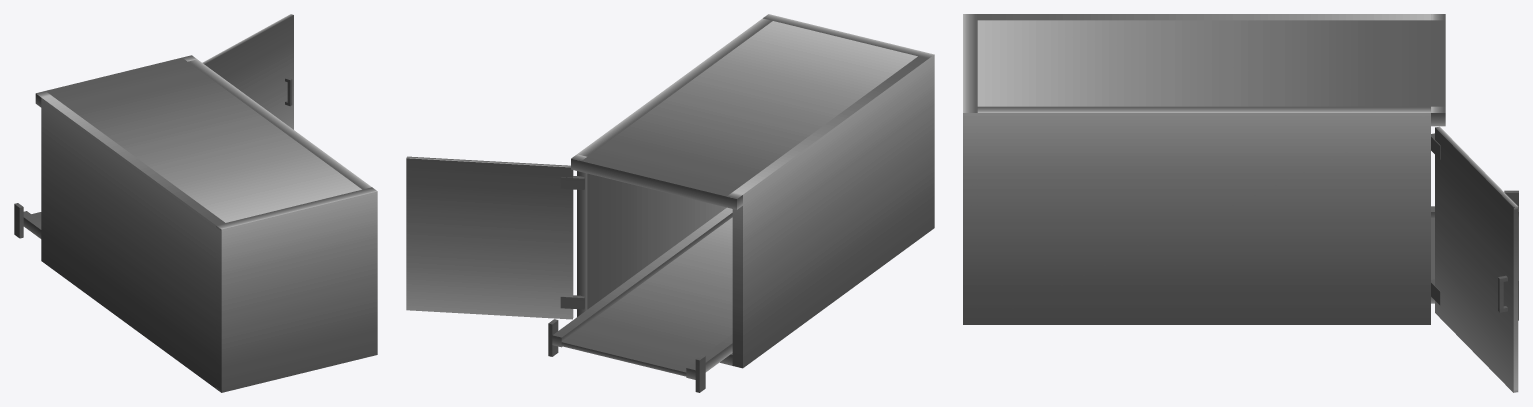
The model's file is corpse_freezer_open.obj.
3 renders of one model, left to right at view 1: azimuth 30°, elevation 25°; view 2: azimuth 150°, elevation 25°; view 3: azimuth 270°, elevation 25°, orthographic. The views are drawn at different scales.
Parts seen in each view (by area): view 1: cube; view 2: cube; view 3: cube.
Part boxes in pixels (bbox=[...]): cube: bbox=[14, 14, 377, 392]; cube: bbox=[406, 14, 934, 392]; cube: bbox=[963, 14, 1518, 392].
Size of the model in its own units: 1.82 by 1 by 2.38.
